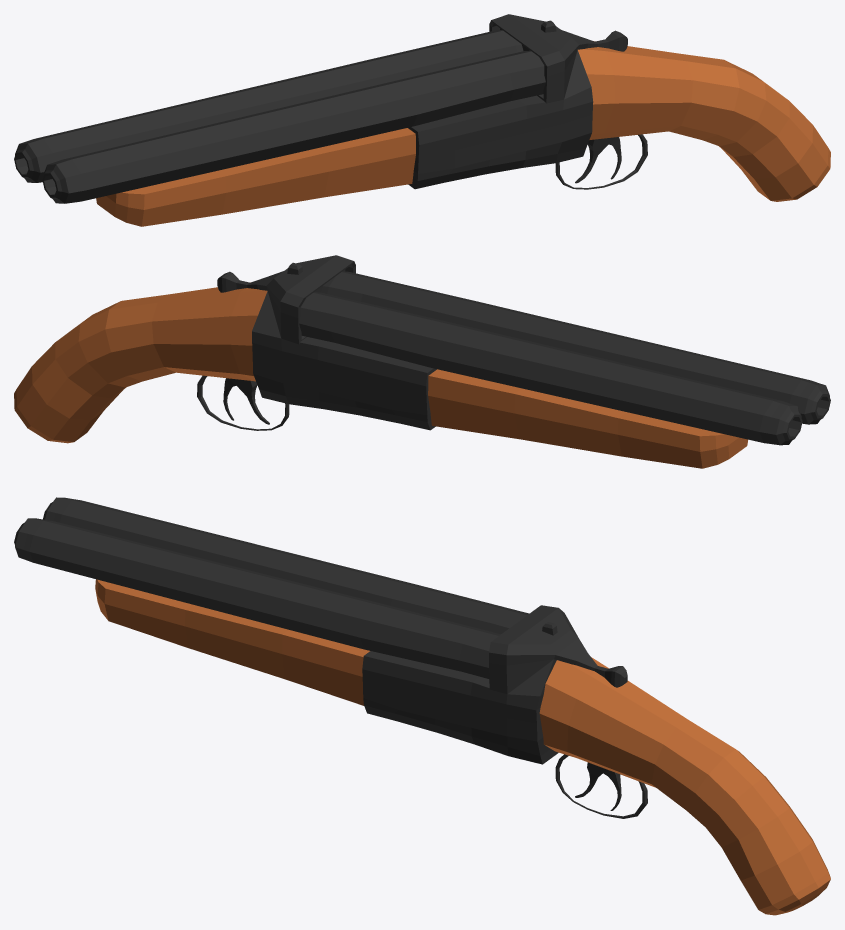
Rendered from Double Shotgun.glb.
3 views of the same model, one above another, from view 1: azimuth 30°, elevation 25°; view 2: azimuth 150°, elevation 25°; view 3: azimuth 330°, elevation 25° (orthographic).
Parts seen in each view (by area): view 1: Cylinder; view 2: Cylinder; view 3: Cylinder.
Part boxes in pixels (x1,y1,x2,y2): Cylinder: (14, 14, 830, 226); Cylinder: (14, 255, 830, 468); Cylinder: (14, 497, 830, 915).
Bounding box in the file's own units: 9.49 × 2.64 × 1.21.
